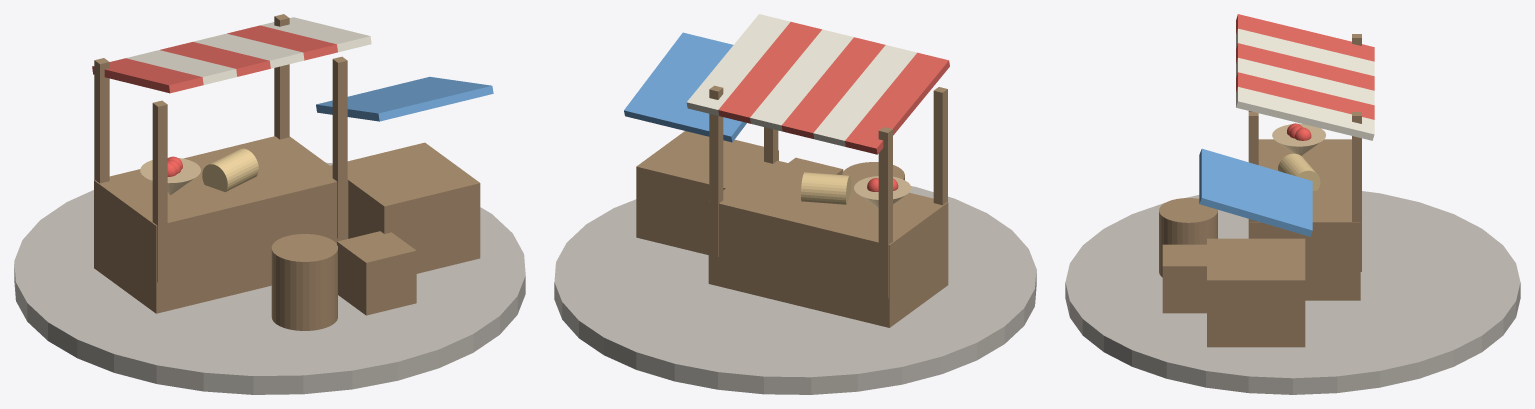
Rendered from building_market.glb.
3 renders of one model, left to right at view 1: azimuth 30°, elevation 25°; view 2: azimuth 150°, elevation 25°; view 3: azimuth 270°, elevation 25°, orthographic. The views are drawn at different scales.
Visible parts, largest first — view 1: Cylinder, Cube, Cube.011, Cylinder.002, Cube.013, Cube.012, Cube.003, Cube.001, Cube.005, Cube.002, Cylinder.001, Cube.008 (+6 smaller); view 2: Cylinder, Cube, Cube.011, Cube.012, Cube.005, Cube.008, Cube.006, Cube.007, Cube.009, Cube.010, Cube.002, Cube.004 (+5 smaller); view 3: Cylinder, Cube.011, Cube, Cube.012, Cube.013, Cube.010, Cylinder.002, Cube.008, Cube.006, Cube.007, Cube.005, Cube.009 (+4 smaller).
Part boxes in pixels (x1,y1,x2,y2): Cylinder: [14, 162, 525, 394]; Cube: [94, 136, 348, 313]; Cube.011: [330, 142, 480, 273]; Cylinder.002: [271, 234, 337, 330]; Cube.013: [337, 231, 416, 315]; Cube.012: [316, 76, 493, 121]; Cube.003: [332, 56, 347, 238]; Cube.001: [152, 100, 167, 282]; Cube.005: [92, 58, 203, 93]; Cube.002: [94, 58, 109, 183]; Cylinder.001: [202, 148, 258, 192]; Cube.008: [193, 33, 304, 68]; Cylinder: [554, 186, 1036, 394]; Cube: [708, 160, 948, 327]; Cube.011: [636, 131, 778, 254]; Cube.012: [624, 32, 746, 142]; Cube.005: [845, 52, 949, 154]; Cube.008: [750, 29, 853, 131]; Cube.006: [813, 45, 916, 146]; Cube.007: [781, 37, 885, 138]; Cube.009: [718, 22, 821, 123]; Cube.010: [686, 14, 790, 115]; Cube.002: [878, 127, 892, 298]; Cube.004: [709, 85, 723, 256]; Cylinder: [1065, 191, 1520, 394]; Cube.011: [1207, 238, 1305, 347]; Cube: [1250, 139, 1360, 300]; Cube.012: [1199, 148, 1312, 236]; Cube.013: [1162, 244, 1206, 313]; Cube.010: [1236, 87, 1374, 140]; Cylinder.002: [1159, 198, 1217, 277]; Cube.008: [1236, 57, 1374, 105]; Cube.006: [1236, 28, 1374, 76]; Cube.007: [1236, 43, 1374, 90]; Cube.005: [1236, 14, 1374, 61]; Cube.009: [1236, 72, 1374, 119].
Size of the model in its own units: 3.7 by 2.04 by 3.7.
